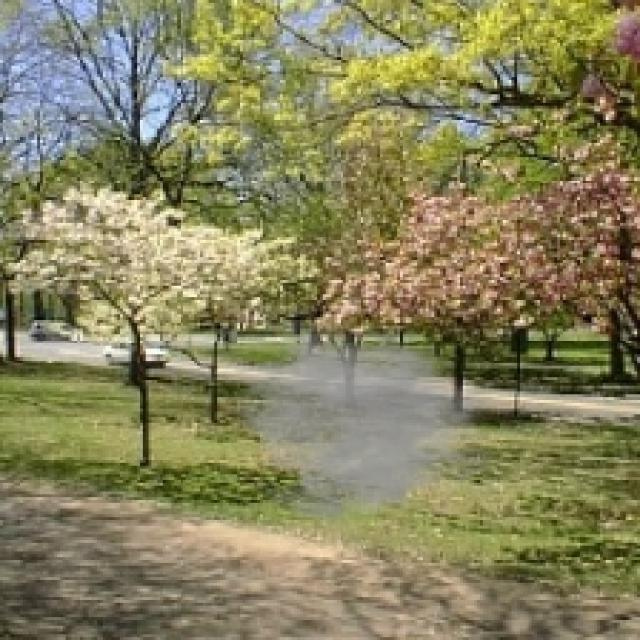smoke: (229, 326, 497, 537)
